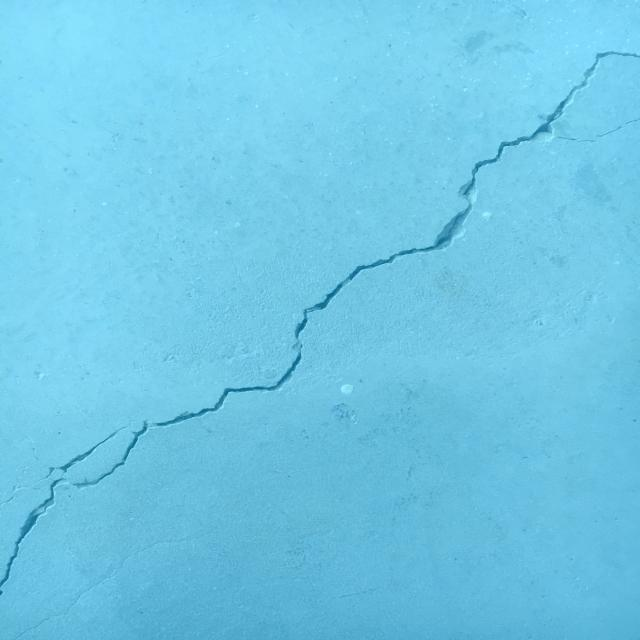crack: (0, 51, 640, 590), (552, 117, 640, 142), (0, 590, 3, 596)
